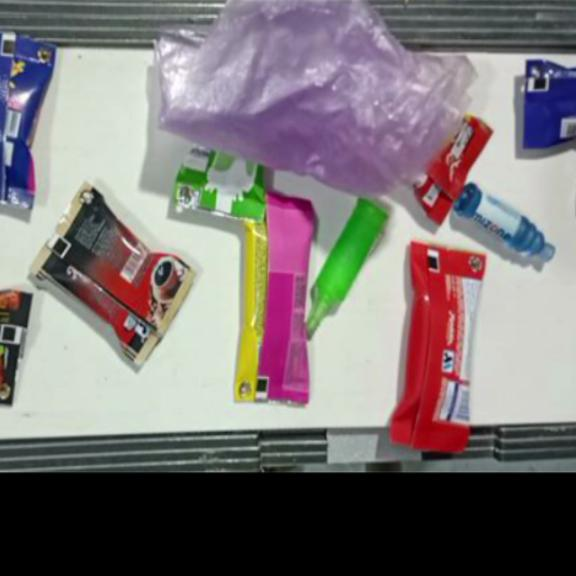Plastik: (153, 0, 479, 196), (29, 182, 197, 365), (389, 242, 485, 449), (232, 189, 314, 407), (306, 196, 389, 342), (0, 31, 57, 211), (412, 114, 492, 224), (454, 185, 556, 262), (174, 140, 268, 220), (522, 58, 576, 150), (0, 289, 33, 407)
